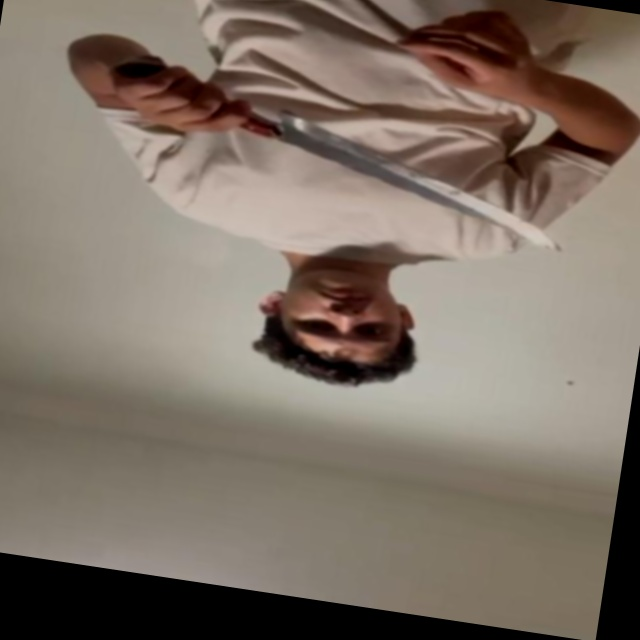Sharp-Object: (256, 109, 579, 253)
